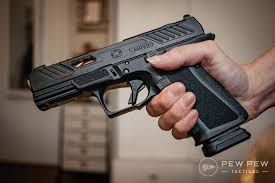gun: (27, 13, 253, 157)
